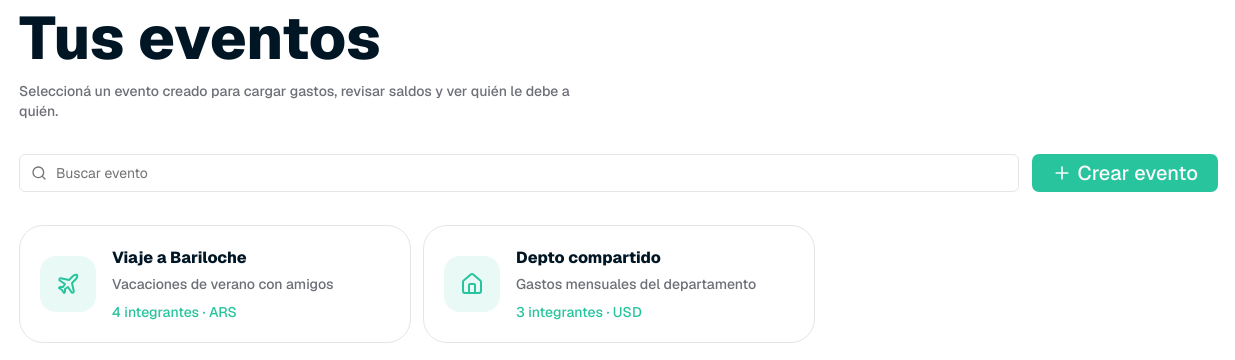
EventsPage › filtra por nombre sin distinguir mayúsculas y restaura al limpiar
This screenshot has width=1235, height=360.
Expected: the heading "Viaje a Bariloche" is shown, top-left (112, 247), bottom-right (247, 268)
Type "bariLO" into the field labelled "Buscar evento".
click(519, 173); type("bariLO")  # box top-left (19, 154), bottom-right (1019, 192)
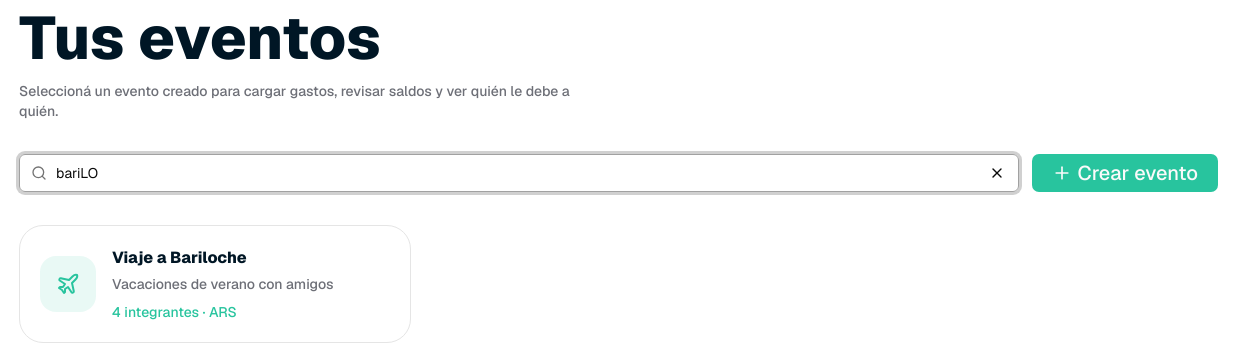
Expected: the heading "Viaje a Bariloche" is shown, top-left (112, 247), bottom-right (247, 268)
Now the link "Depto compartido" is gone
Click the button named "Limpiar búsqueda".
click(997, 173)  # box top-left (981, 157), bottom-right (1013, 189)
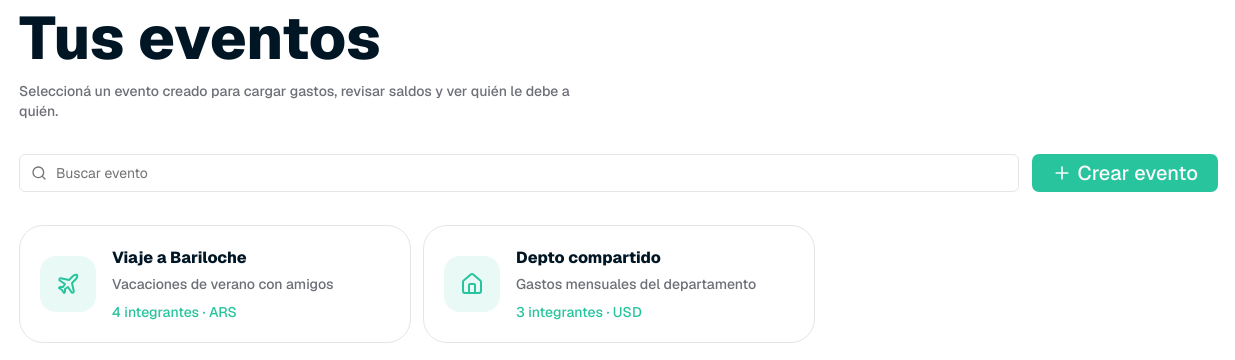
Now the heading "Depto compartido" is shown, box top-left (516, 247), bottom-right (661, 268)
